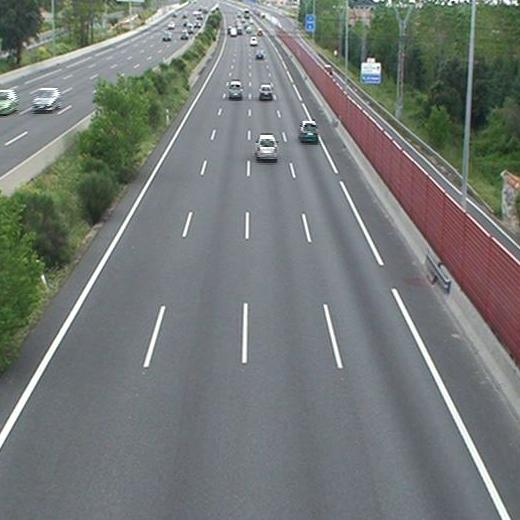car: (255, 135, 279, 160), (299, 121, 319, 142), (229, 81, 242, 98), (259, 85, 272, 99), (248, 37, 258, 46), (256, 49, 263, 58)
